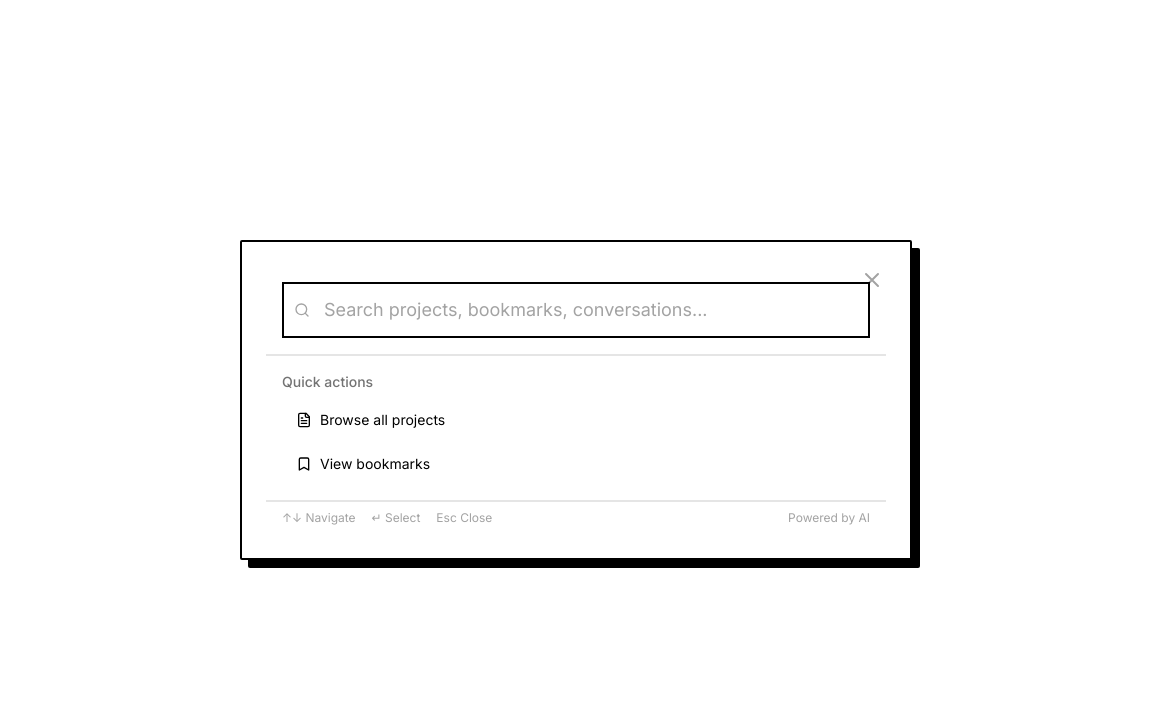
Scenario: GlobalSearchModal › shows no results message for empty search
Type "nonexistent" into the field with placeholder "Search projects, bookmarks, conversations..." at (576, 310), box [282, 282, 870, 338]
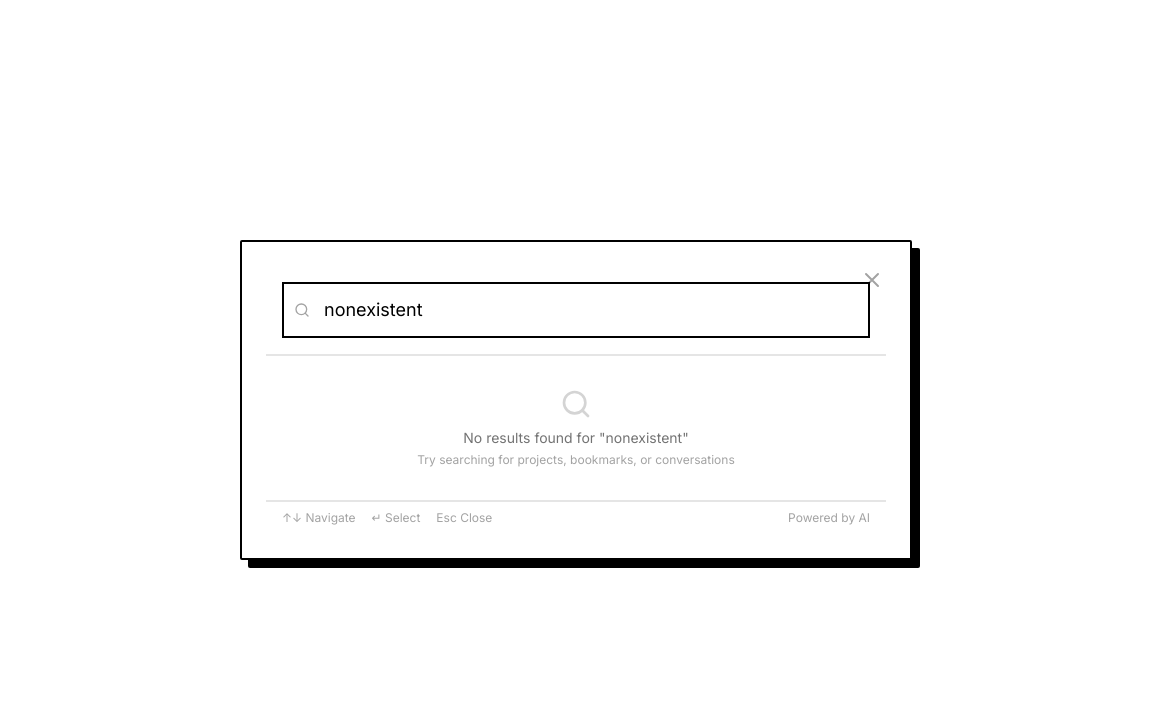
Expected: the text "No results found for \"nonexistent\"" is shown, [463, 429, 689, 446]
